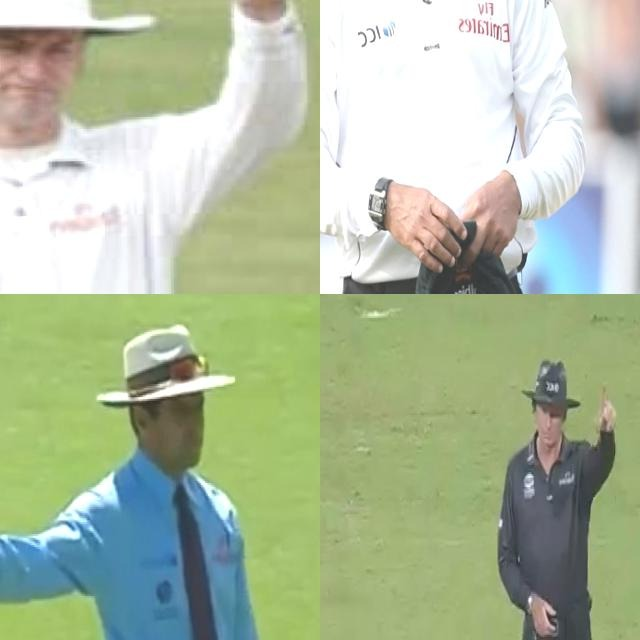No_Action: (320, 0, 595, 294)
No_Ball: (0, 308, 320, 640)
Out: (0, 0, 320, 294), (488, 348, 627, 640)
